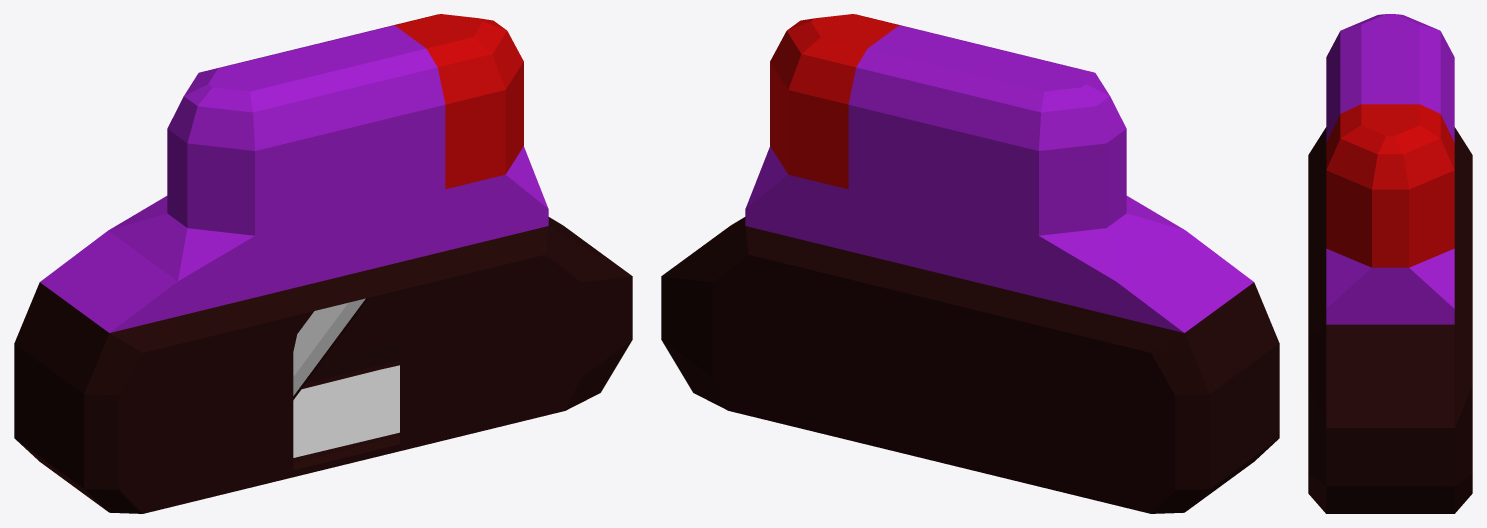
File: shipbody.obj
3 renders of one model, left to right at view 1: azimuth 30°, elevation 25°; view 2: azimuth 150°, elevation 25°; view 3: azimuth 270°, elevation 25°, orthographic. The views are drawn at different scales.
Parts seen in each view (by area): view 1: Ship; view 2: Ship; view 3: Ship.
Part boxes in pixels (box(x1,y1,x2,y2)): Ship: box(14, 14, 632, 513); Ship: box(661, 14, 1279, 513); Ship: box(1308, 14, 1472, 513).
Bounding box in the file's own units: 8.91 × 5.72 × 2.5.
